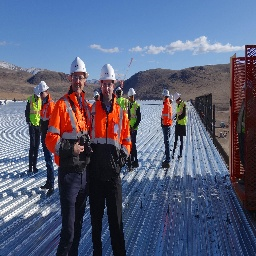helmet: (100, 62, 117, 83), (69, 57, 86, 77)
person: (46, 53, 96, 256), (95, 51, 127, 256), (38, 81, 55, 191), (127, 89, 142, 173), (161, 87, 173, 173), (175, 90, 188, 163)
vest: (91, 99, 125, 169), (60, 98, 90, 166), (28, 94, 44, 127), (130, 102, 140, 131), (163, 99, 173, 126), (175, 104, 187, 126)
